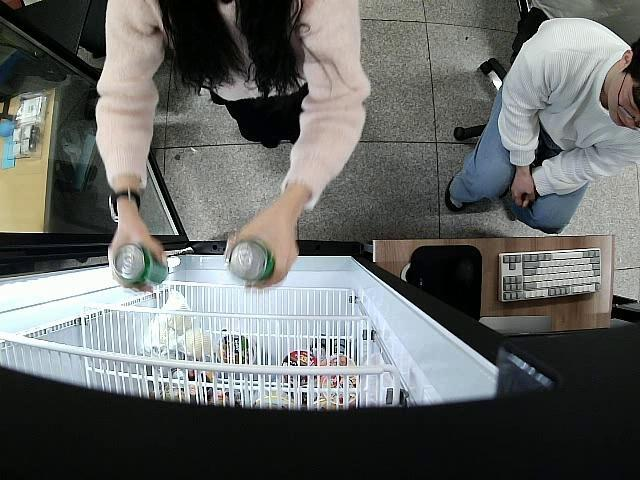12_chilsungCider: (110, 241, 168, 290), (226, 236, 275, 284)
